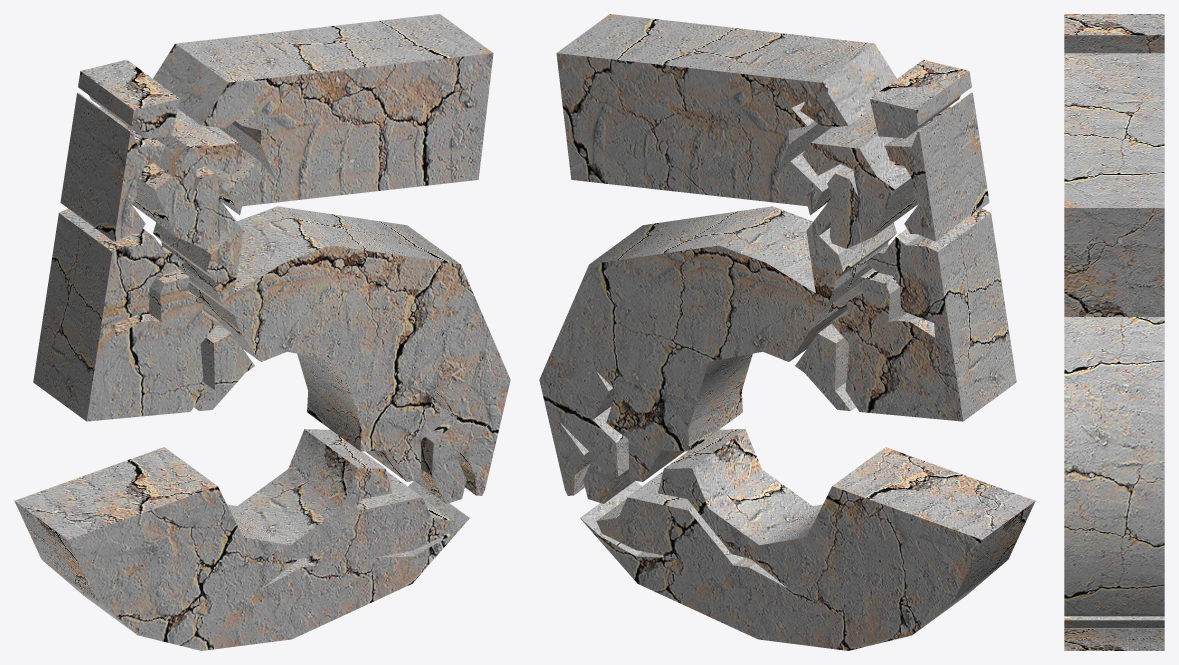
3 views of the same model, side by side, from view 1: azimuth 30°, elevation 25°; view 2: azimuth 150°, elevation 25°; view 3: azimuth 270°, elevation 25° (orthographic). The views are drawn at different scales.
Visible parts, largest first — view 1: 5; view 2: 5; view 3: 5.
Part boxes in pixels (x1,y1,x2,y2): 5: (14, 14, 510, 650); 5: (539, 14, 1035, 650); 5: (1064, 14, 1164, 650).
Size of the model in its own units: 71.74 by 88.55 by 15.
1 material, 1 textured.
